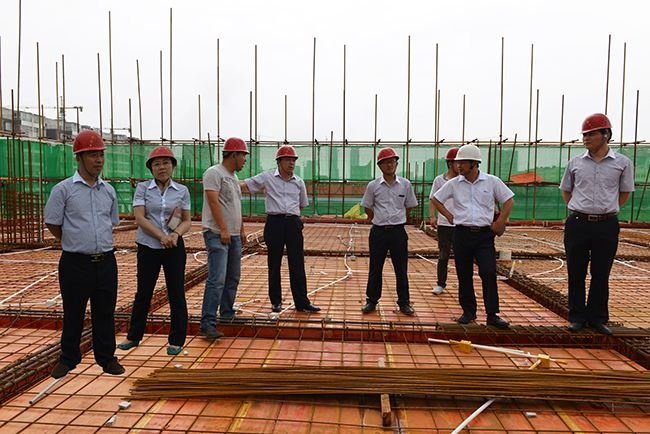red: (72, 128, 109, 180), (219, 133, 252, 176), (144, 146, 178, 186), (579, 112, 613, 152), (373, 146, 400, 177), (272, 143, 298, 175), (444, 146, 462, 174)
white: (456, 143, 481, 177)
